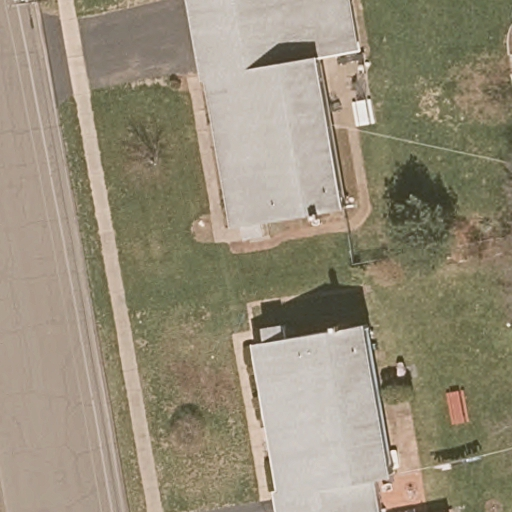DT: (11, 1, 40, 30)
